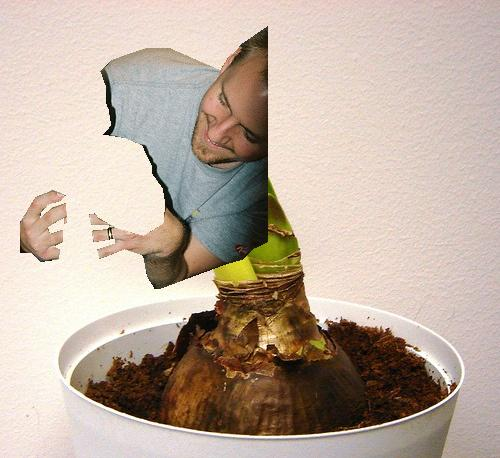tampered: (21, 27, 268, 289)
